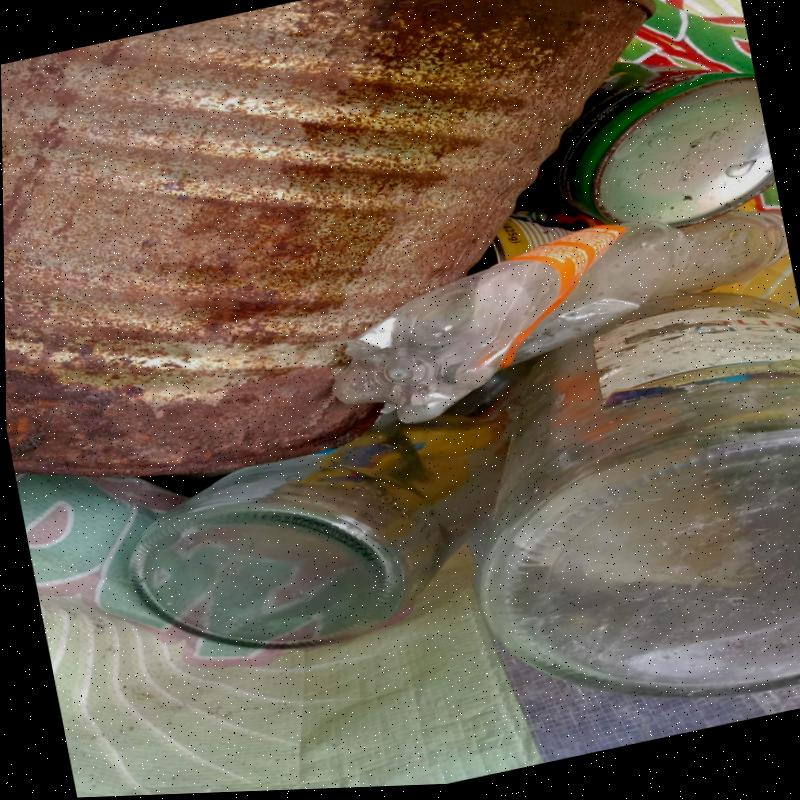aluminum: (1, 0, 655, 471), (542, 61, 775, 226)
glass bottle: (470, 292, 800, 700), (127, 361, 531, 645)
plastic bottle: (327, 204, 788, 425)
